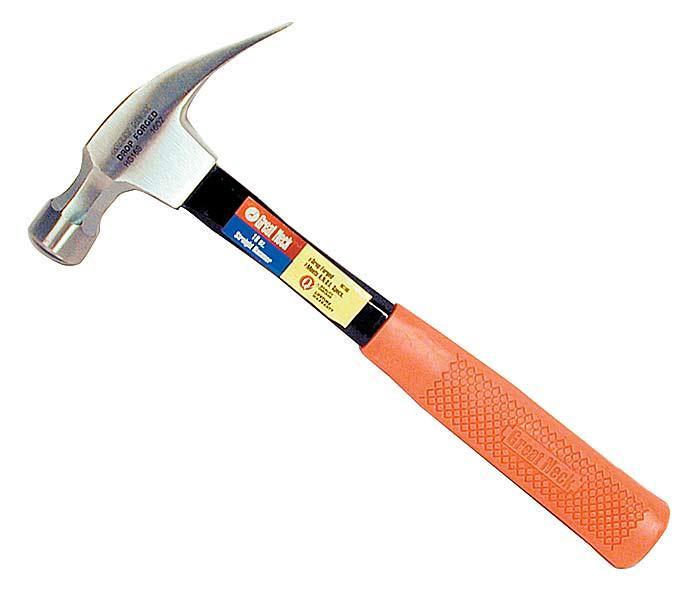hammer: (24, 18, 672, 570)
